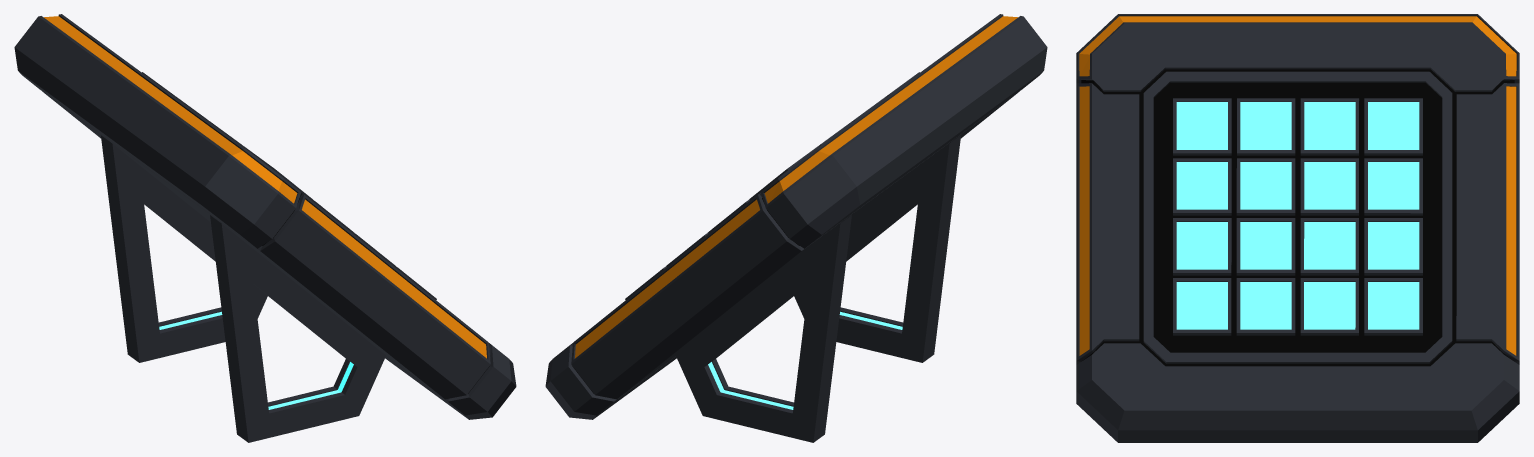
Rendered from SM_Angled_Control_Panel.fbx.
3 renders of one model, left to right at view 1: azimuth 30°, elevation 25°; view 2: azimuth 150°, elevation 25°; view 3: azimuth 270°, elevation 25°, orthographic. The views are drawn at different scales.
Visible parts, largest first — view 1: SM_Angled_Control_Panel; view 2: SM_Angled_Control_Panel; view 3: SM_Angled_Control_Panel.
Boxes of the visible parts, bbox=[...] form: SM_Angled_Control_Panel: bbox=[14, 14, 516, 442]; SM_Angled_Control_Panel: bbox=[545, 14, 1047, 442]; SM_Angled_Control_Panel: bbox=[1076, 14, 1519, 442].
Bounding box in the file's own units: 22.97 × 22.99 × 30.
